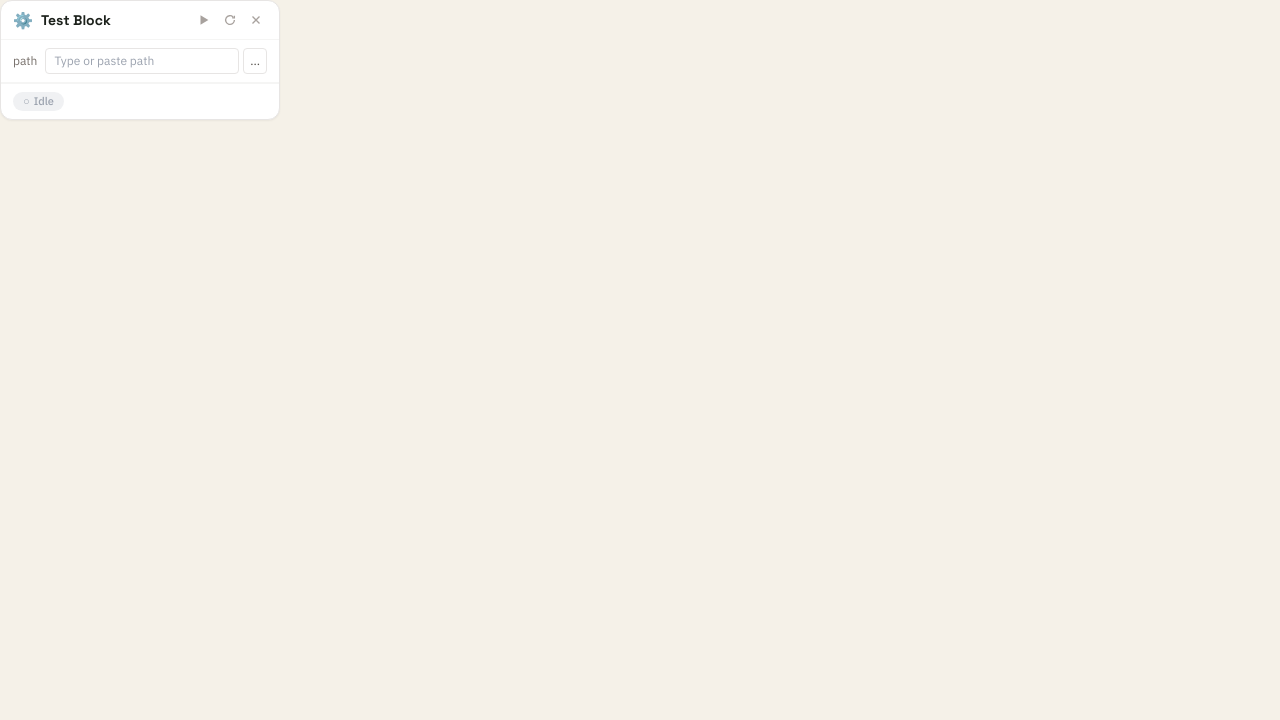
Test case: BlockNode - native dialog status-aware fallback (#678) › falls back to in-app FileBrowserModal when native dialog returns HTTP 500
The width and height of the screenshot is (1280, 720).
Expected: the text "Select File" is not shown
Click the button titled "Browse filesystem" at (255, 61), box [243, 48, 267, 74]
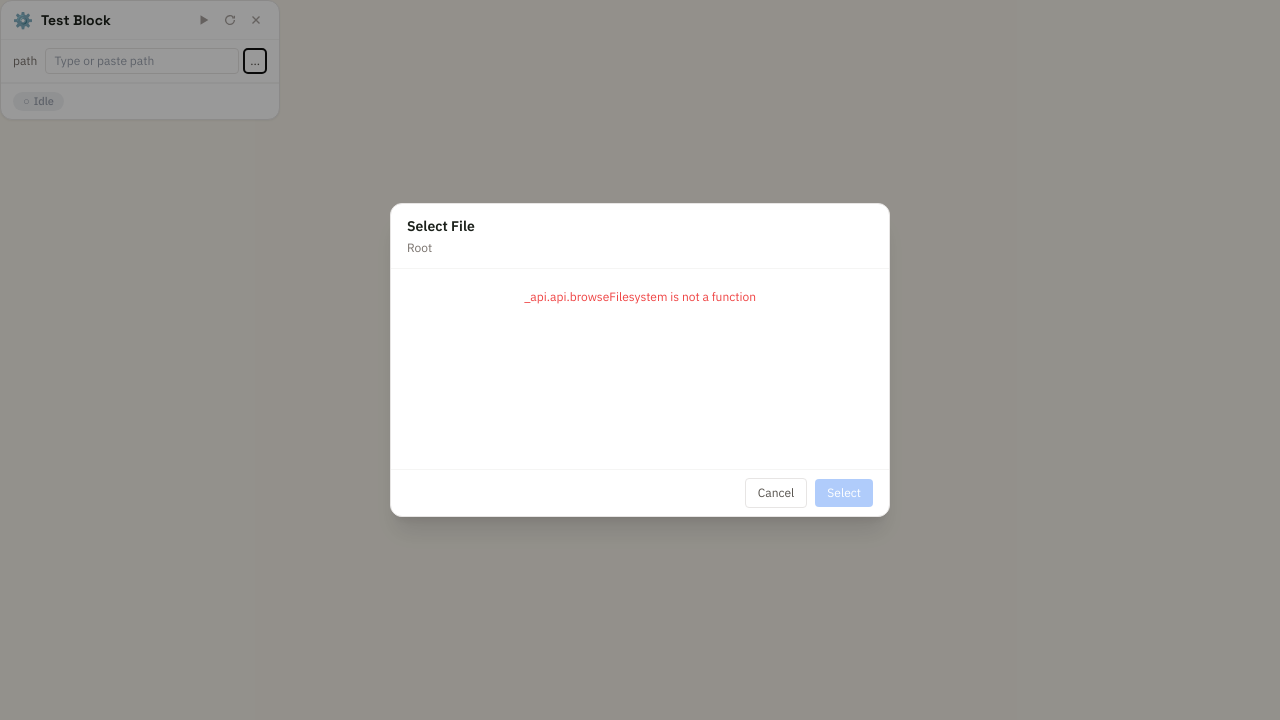
Expected: the text "Select File" is shown, [407, 217, 475, 235]
